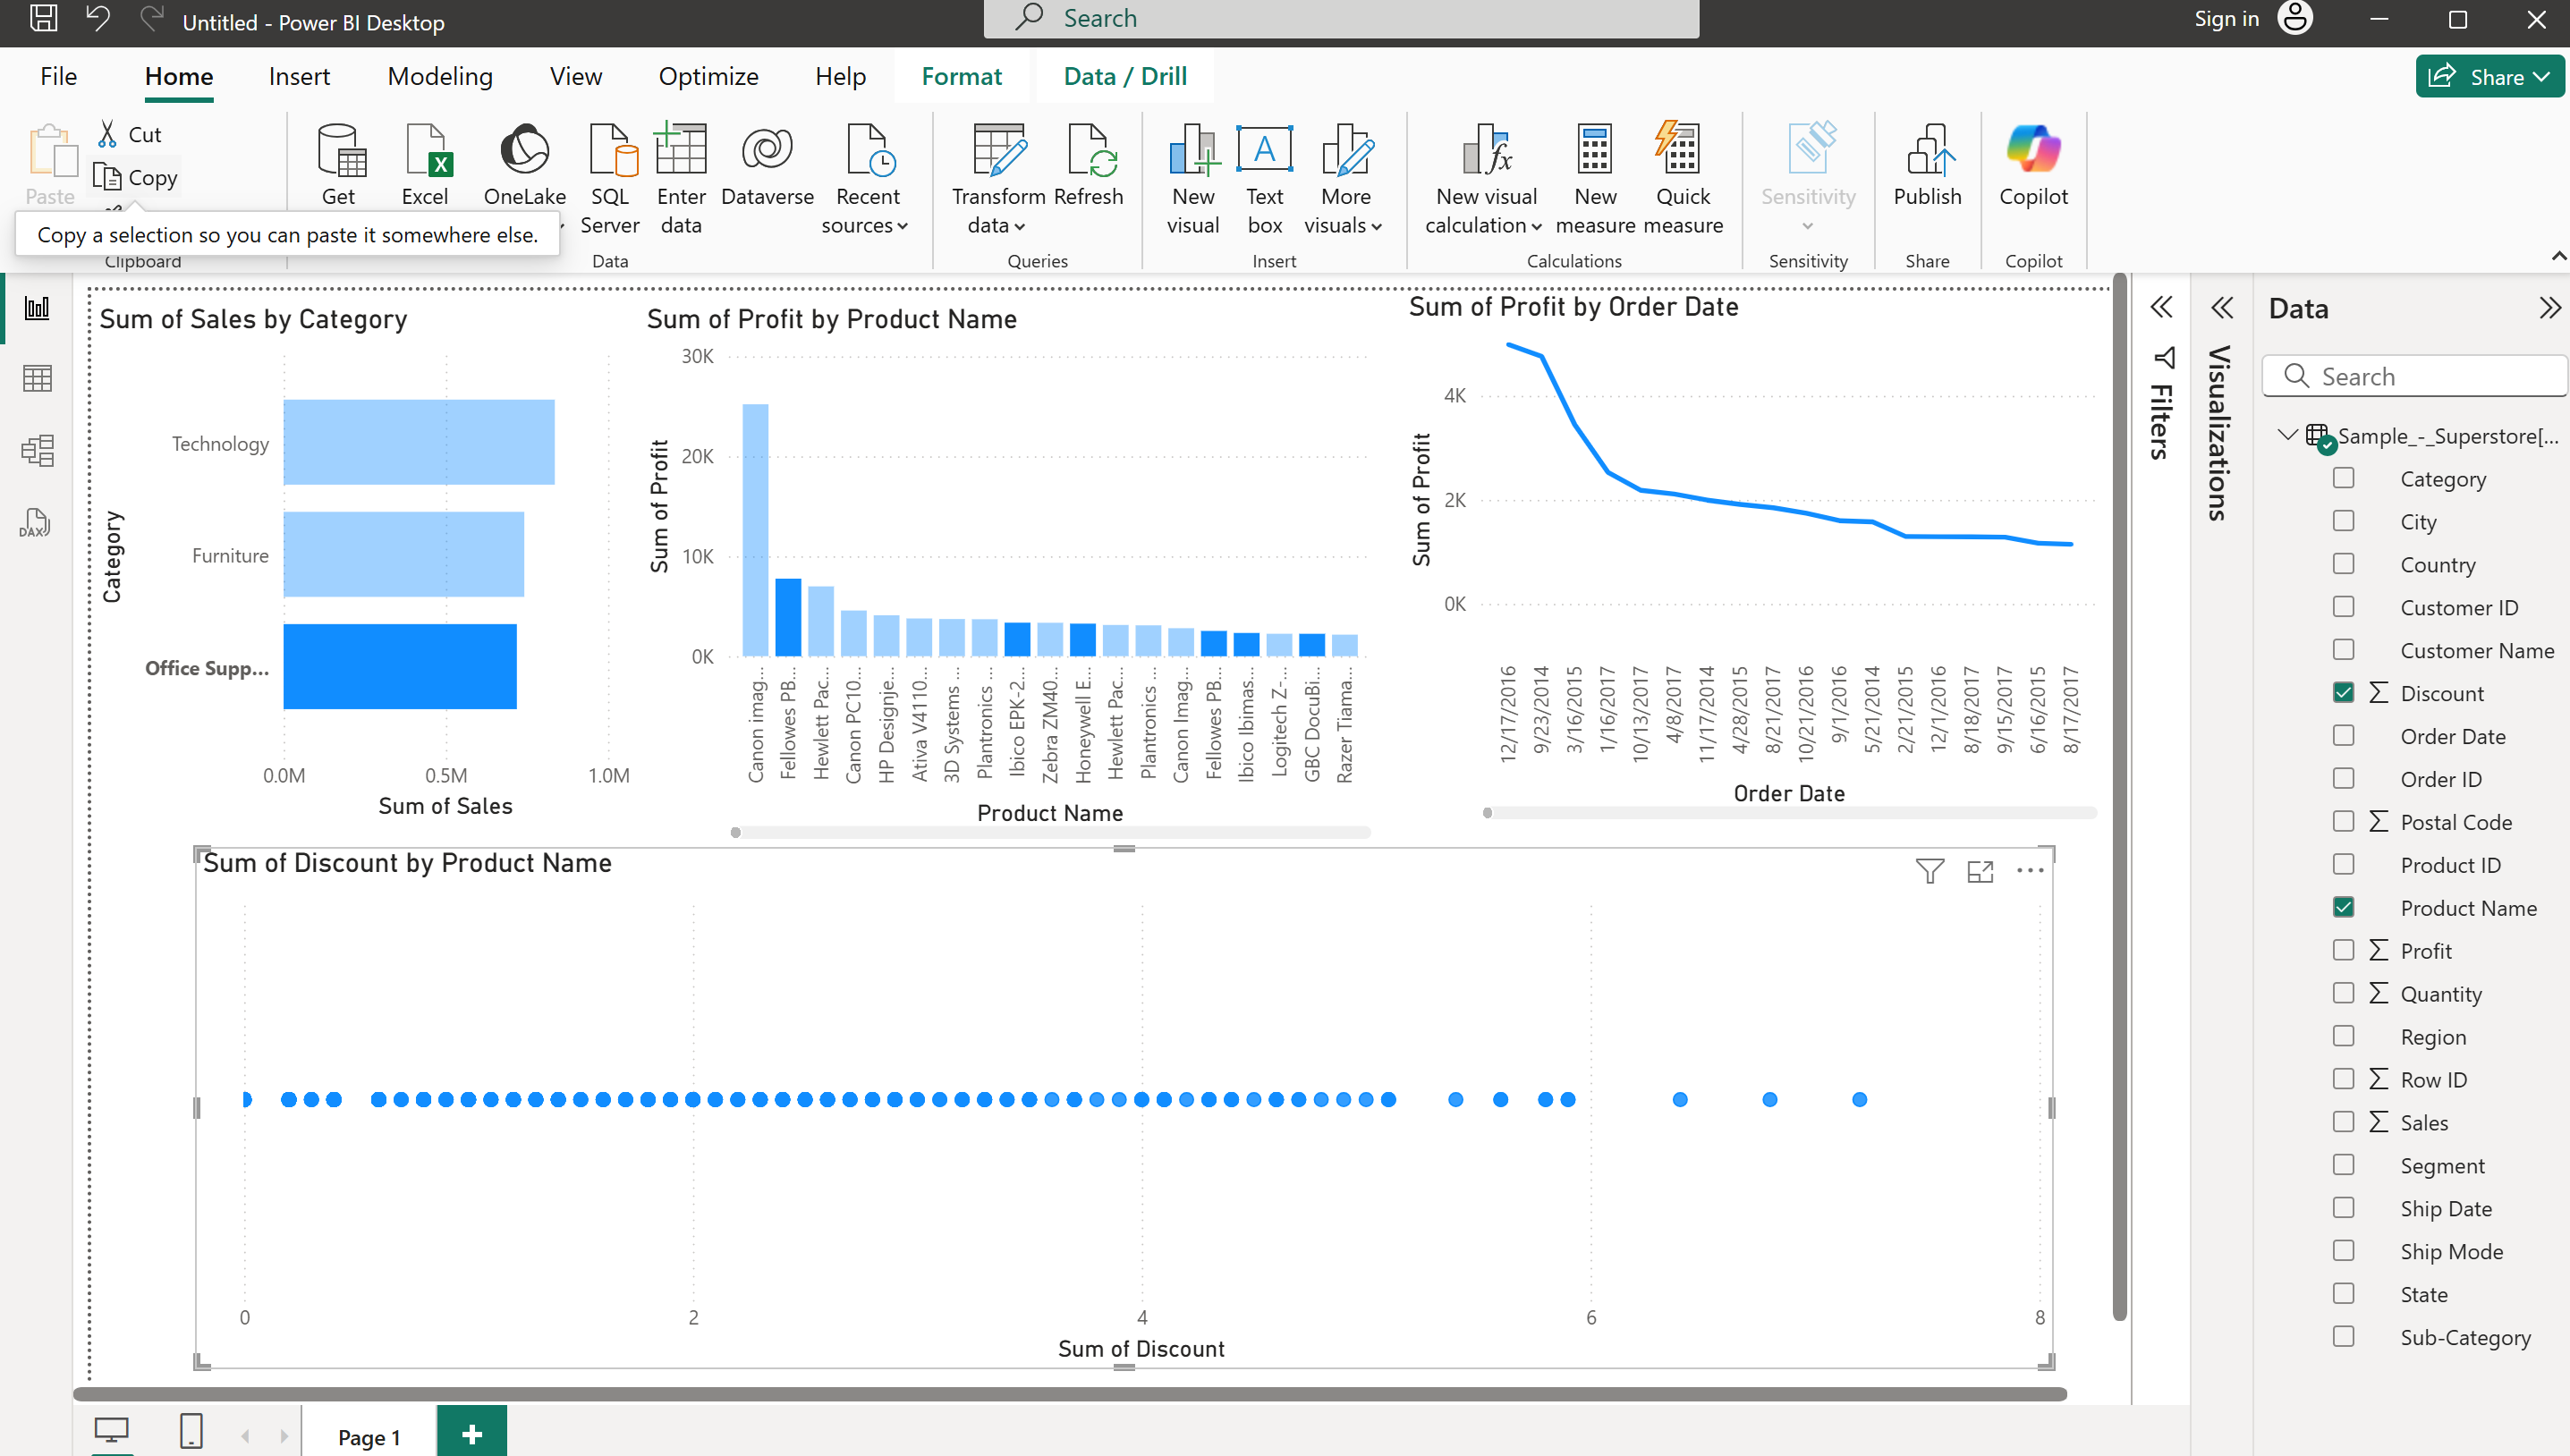

This screenshot's page, from the dashboard's own definition file:
{"tool":"powerbi","page":{"name":"Page 1","canvas":[1280,720],"ordinal":0},"visuals":[{"type":"clusteredColumnChart","fields":{"Category":["Sample_-_Superstore[1] (2).Product Name"],"Y":["Sum(Sample_-_Superstore[1] (2).Profit)"]},"box":[340,7.8,460,337.8],"z":0},{"type":"barChart","fields":{"Category":["Sample_-_Superstore[1] (2).Category"],"Y":["Sum(Sample_-_Superstore[1] (2).Sales)"]},"box":[0,7.8,340,325.6],"z":1000},{"type":"lineChart","fields":{"Category":["Sample_-_Superstore[1] (2).Order Date"],"Y":["Sum(Sample_-_Superstore[1] (2).Profit)"]},"box":[813.3,0,437.8,333.3],"z":2000},{"type":"scatterChart","fields":{"X":["Sum(Sample_-_Superstore[1] (2).Discount)"],"Category":["Sample_-_Superstore[1] (2).Product Name"]},"box":[64.4,345.6,1154.4,324.4],"z":2001}]}

Visuals, with their boxes on the page's 1280x720 design canvas (x1, y1, x2, y2). These are canvas units, not pixel positions in the 2570x1456 screenshot, which may show the page scaled, cropped or inside an application window:
clusteredColumnChart - Sample_-_Superstore[1] (2).Product Name x Sum(Sample_-_Superstore[1] (2).Profit): region(340, 8, 800, 346)
barChart - Sample_-_Superstore[1] (2).Category x Sum(Sample_-_Superstore[1] (2).Sales): region(0, 8, 340, 333)
lineChart - Sample_-_Superstore[1] (2).Order Date x Sum(Sample_-_Superstore[1] (2).Profit): region(813, 0, 1251, 333)
scatterChart - Sum(Sample_-_Superstore[1] (2).Discount) x Sample_-_Superstore[1] (2).Product Name: region(64, 346, 1219, 670)
